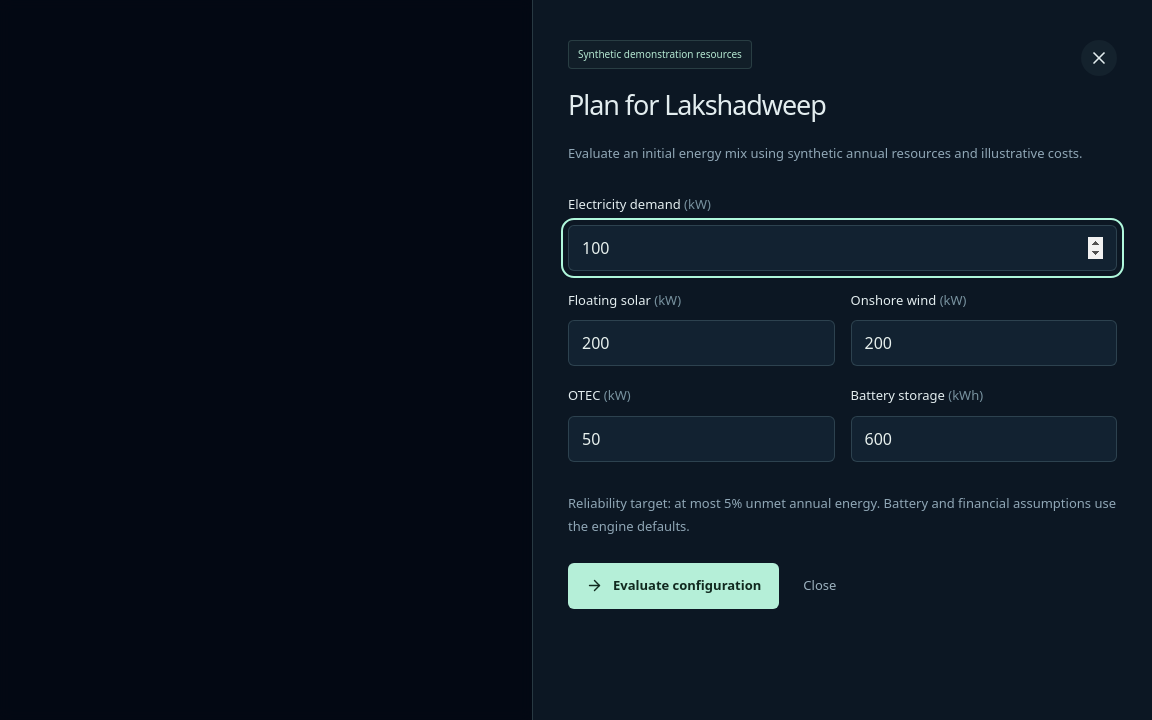
PlanningPanel › aborts an in-flight request when the user closes the panel
The image size is (1152, 720).
Click the button "Evaluate configuration". click: [674, 586]
box: [568,563,779,609]
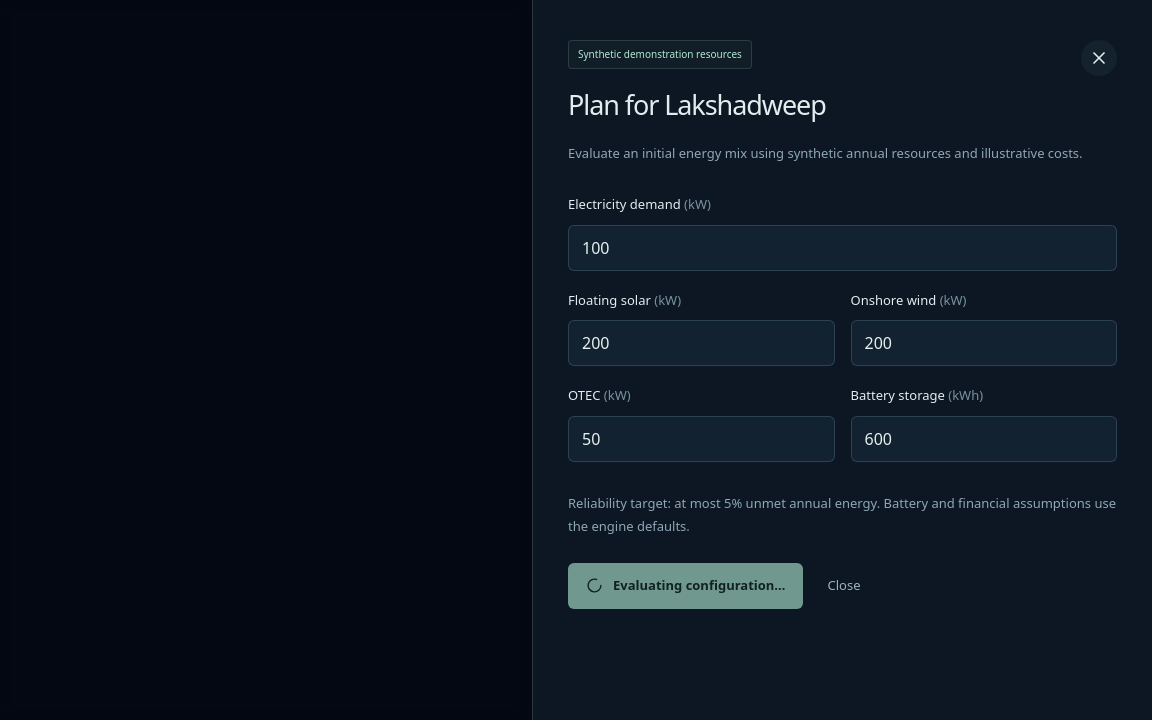
Check: the number field labelled "Electricity demand (kW)" is disabled, box [568,225,1117,271]
Check: the button "Evaluating configuration…" is shown, box [568,563,804,609]
Click the button named "Close energy planner". click: [1099, 58]
box: [1081,40,1117,76]
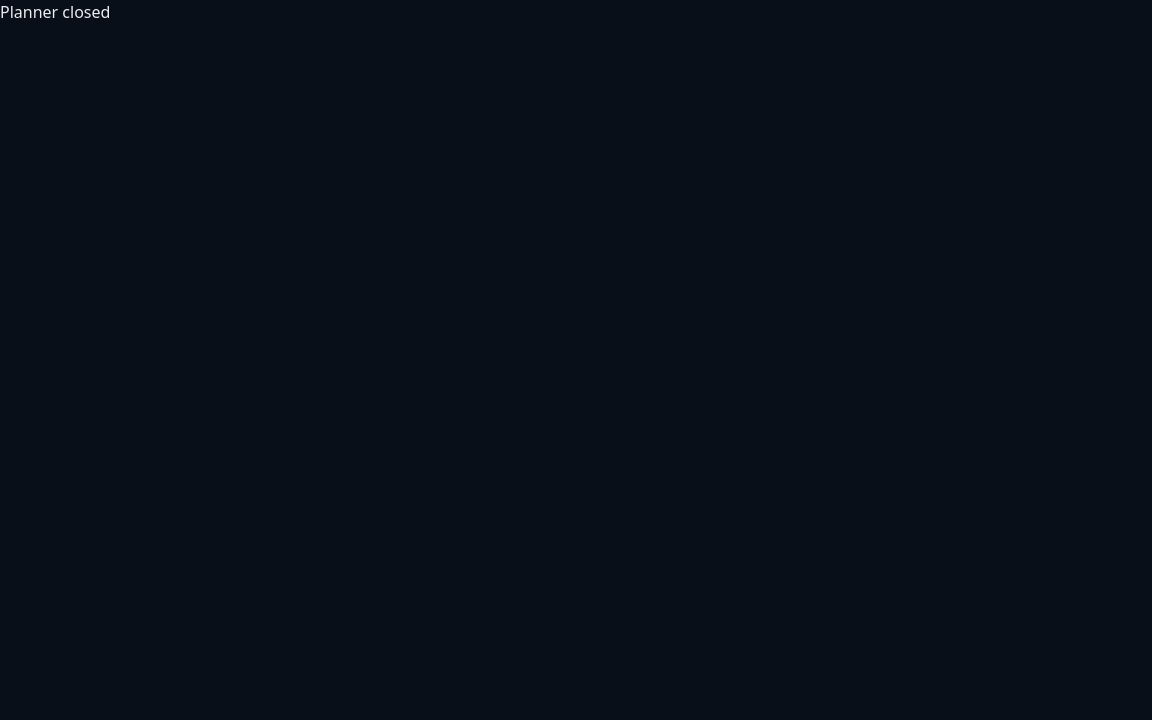
Check: the dialog is gone
Check: the text "Planner closed" is shown, box [0,1,110,23]
